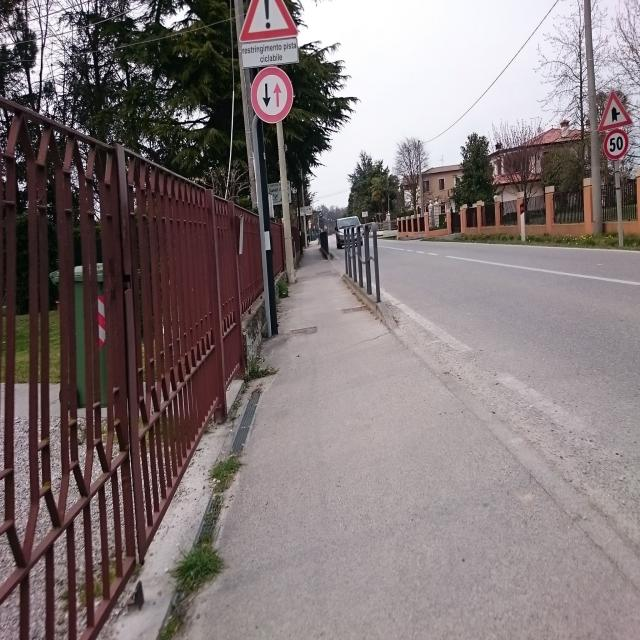car: (336, 216, 362, 250)
